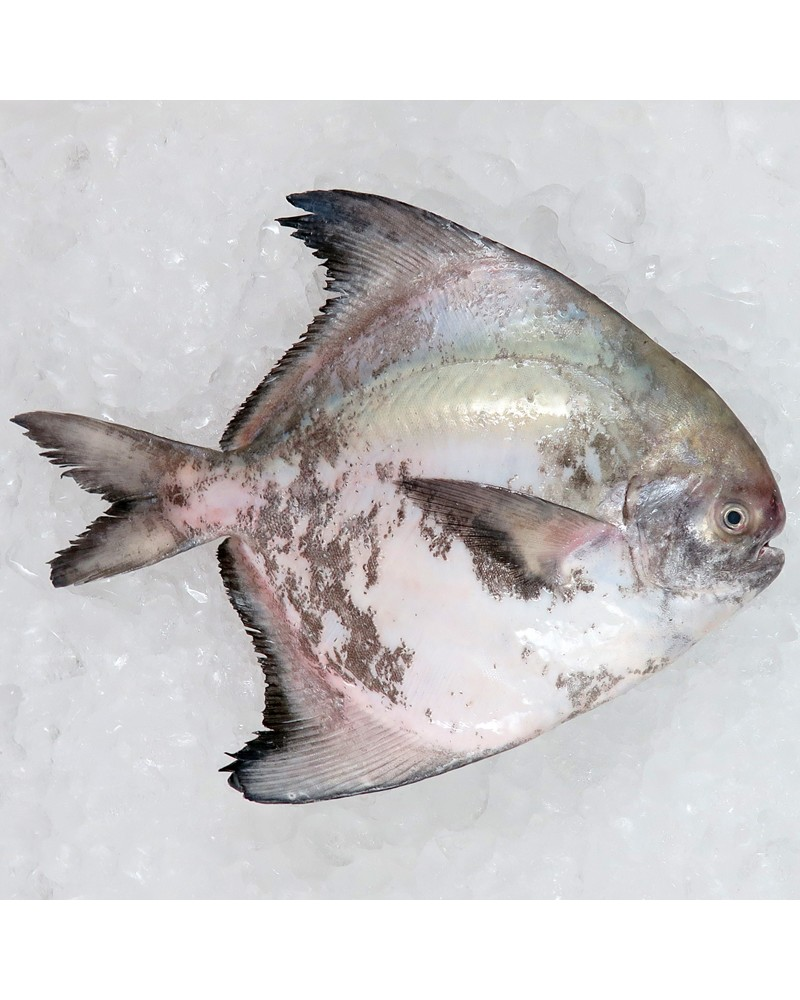Ikan Bawal: (27, 186, 792, 801)
